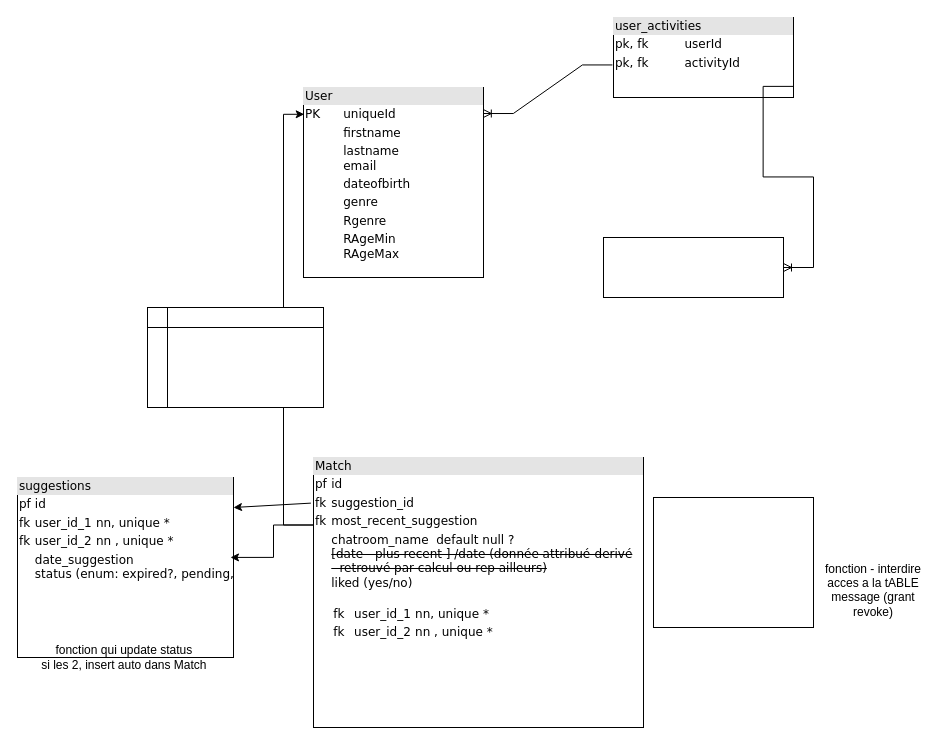
Some shapes in this 951 by 745 pixel diagram are drawn without their labels. The box of each missing label's shape, as (x1, y1, x2, y2) in pixels:
Activities PK uniqueId name: (602, 236, 784, 298)
Message PK uniqueId FK1 match_id FK2 receiverId text date: (652, 496, 814, 628)
